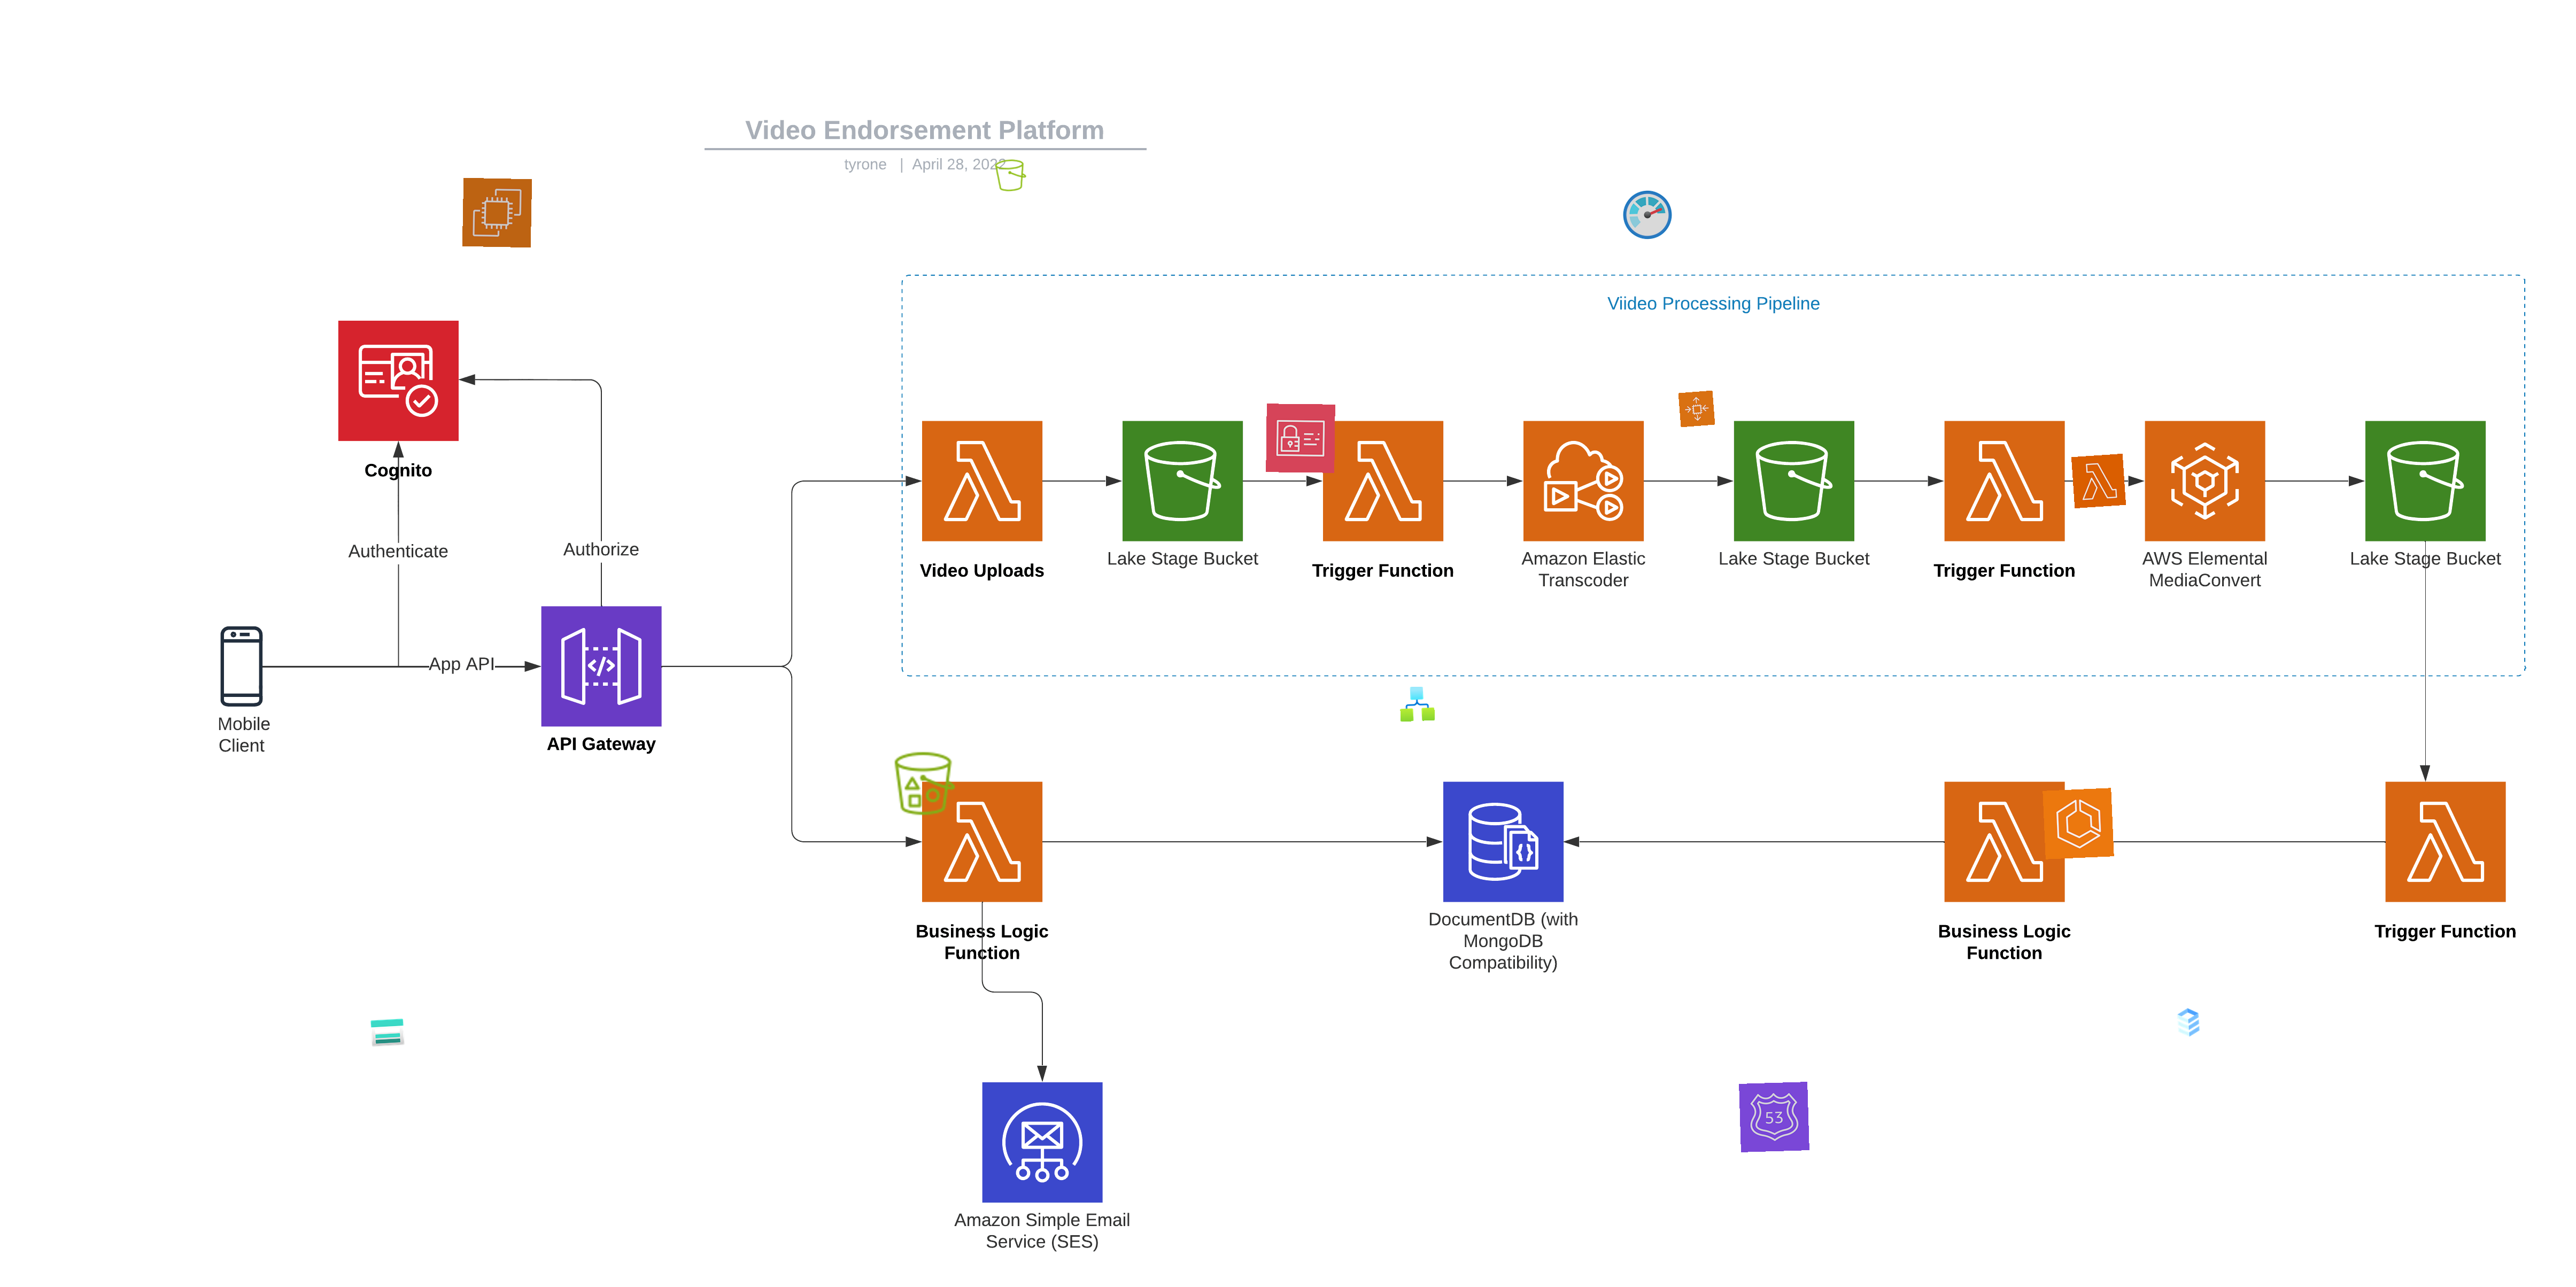aws_amazon_ec2: (462, 177, 532, 248)
aws_amazon_ec2_auto_scaling: (1677, 391, 1715, 427)
aws_amazon_elastic_container_service: (2042, 788, 2114, 860)
aws_amazon_route_53: (1738, 1082, 1809, 1152)
aws_identity_and_access_management: (1265, 404, 1336, 473)
aws_lambda: (2072, 453, 2126, 509)
aws_simple_storage_service_bucket: (992, 158, 1028, 194)
aws_simple_storage_service_bucket_with_objects: (890, 749, 959, 818)
azure_logic_apps: (1400, 686, 1436, 722)
azure_monitor: (1622, 189, 1674, 241)
azure_storage_accounts: (370, 1014, 406, 1051)
gcp_cloud_sql: (2170, 1003, 2206, 1041)
